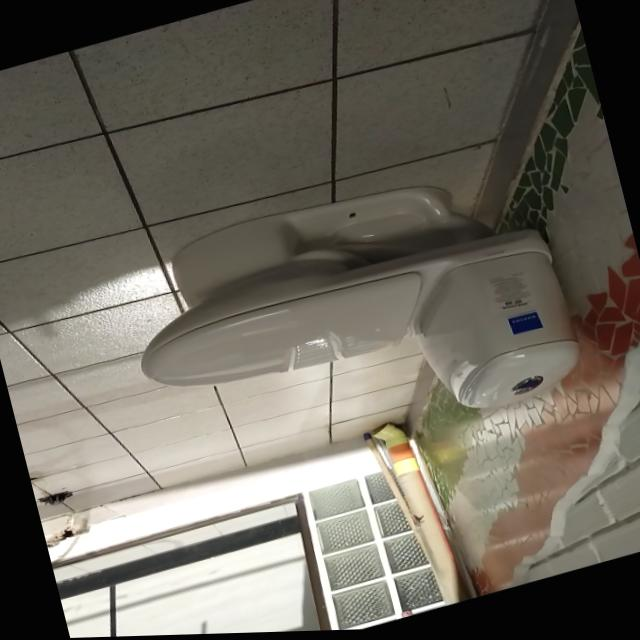toilet: (112, 143, 588, 501)
